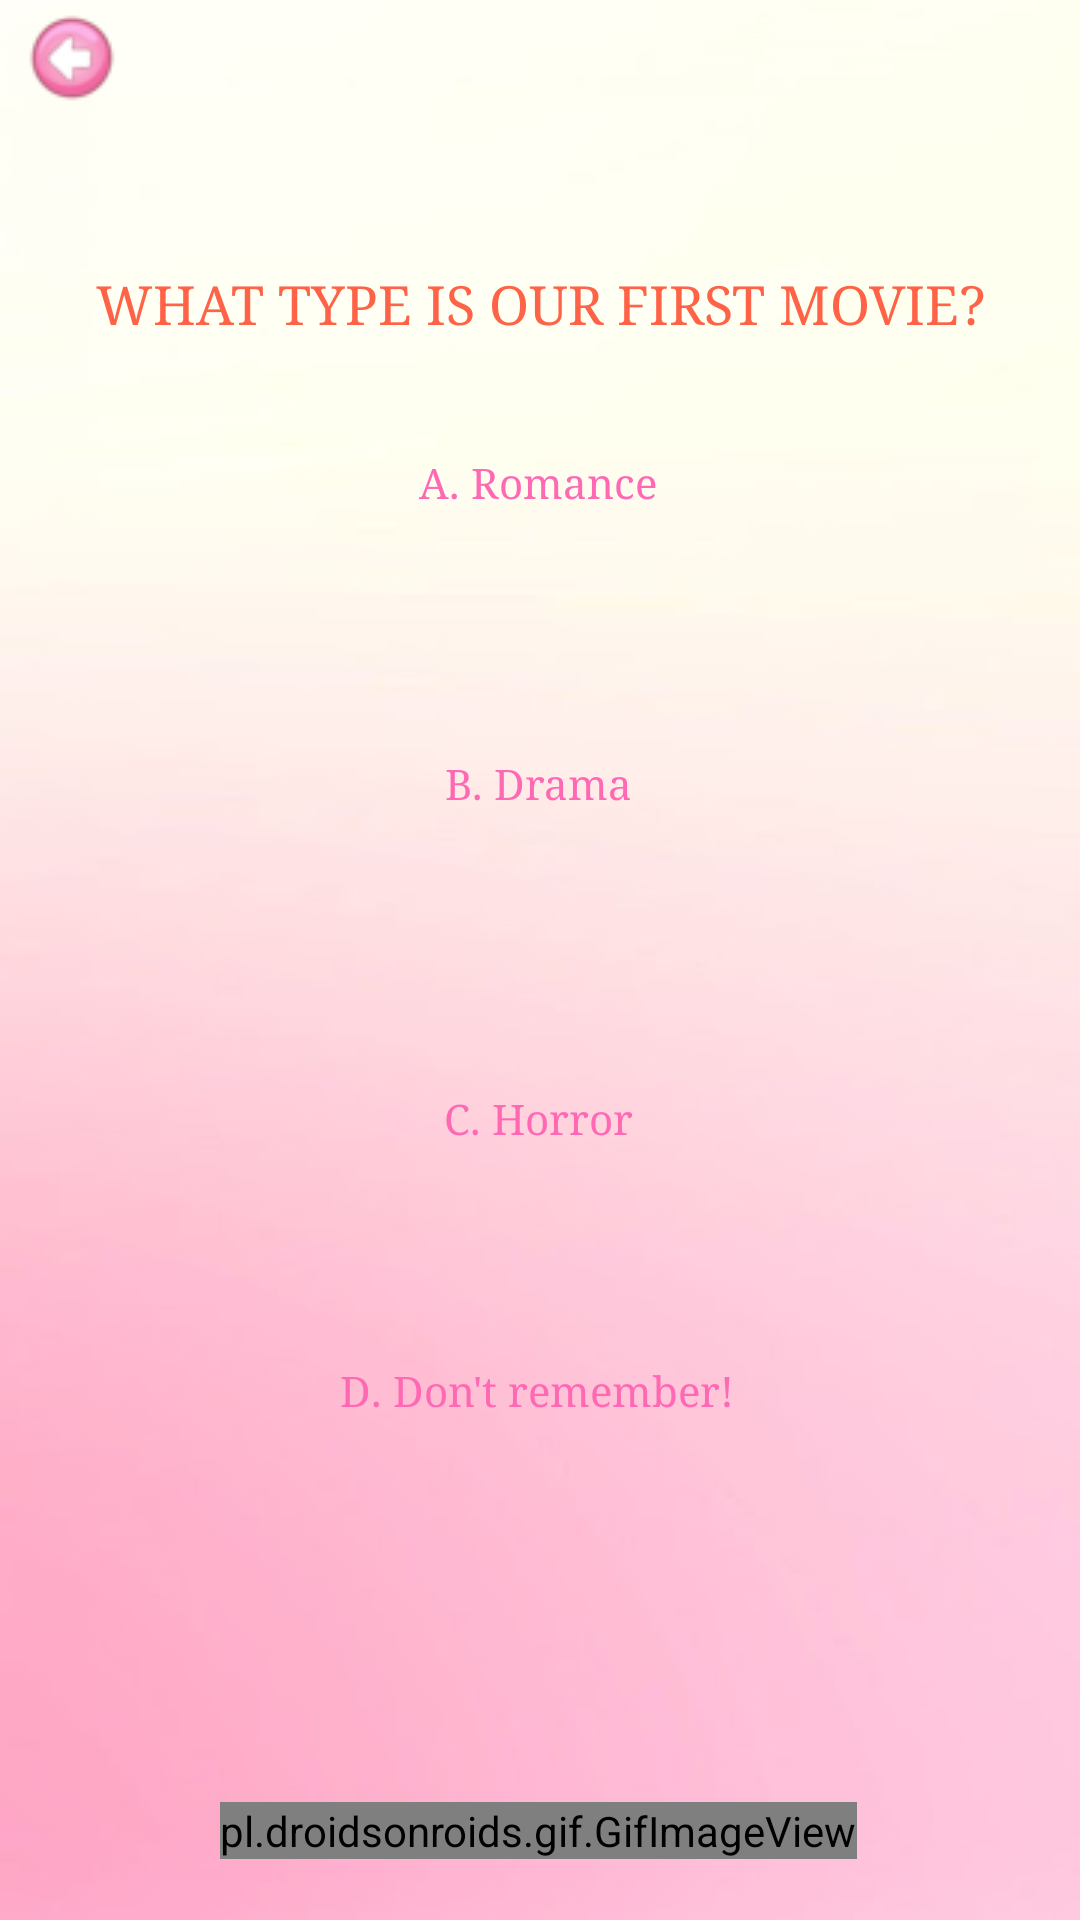

Named icons in this screenshot (1080 x 1920) and their bounding boxes, (x1, y1, x2, y2):
backicon: (30, 16, 114, 100)
